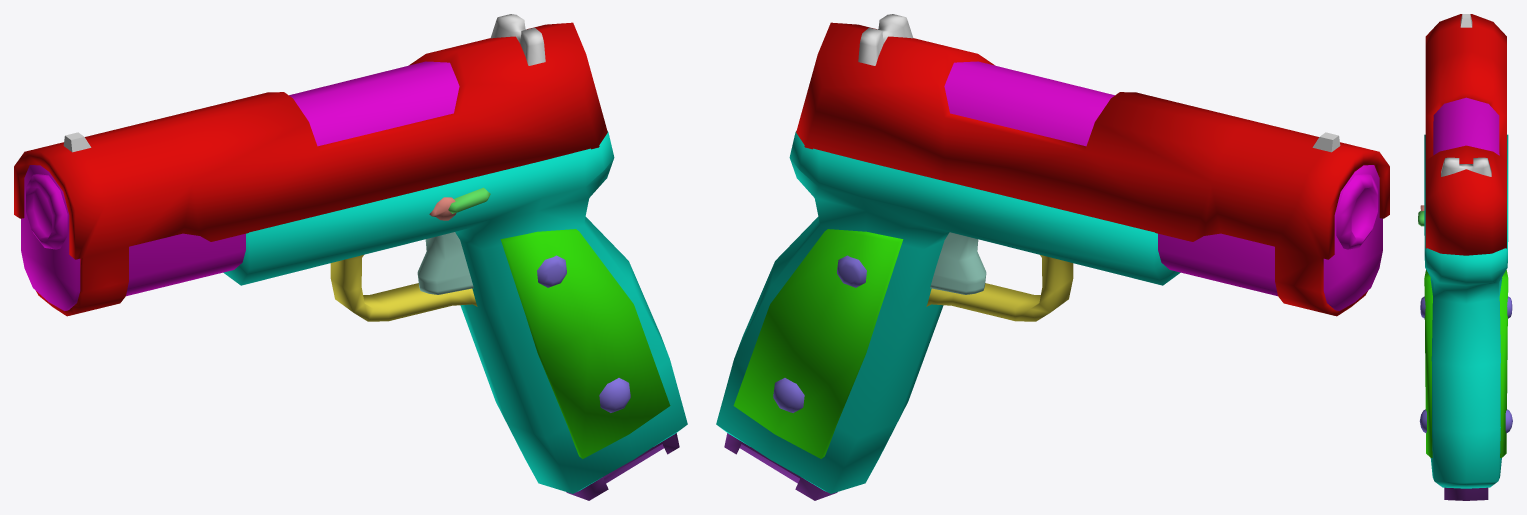
The model's file is Handgun.fbx.
3 views of the same model, side by side, from view 1: azimuth 30°, elevation 25°; view 2: azimuth 150°, elevation 25°; view 3: azimuth 270°, elevation 25° (orthographic). The views are drawn at different scales.
Parts seen in each view (by area): view 1: Frame, Slide; view 2: Frame, Slide; view 3: Frame, Slide.
Boxes of the visible parts, x1,y1,x2,y2 form: Frame: (21, 61, 687, 500); Slide: (14, 14, 607, 316); Frame: (716, 61, 1382, 500); Slide: (796, 14, 1389, 316); Frame: (1418, 97, 1512, 500); Slide: (1425, 14, 1506, 255).
Size of the model in its own units: 0.5404 by 0.3869 by 0.105.
